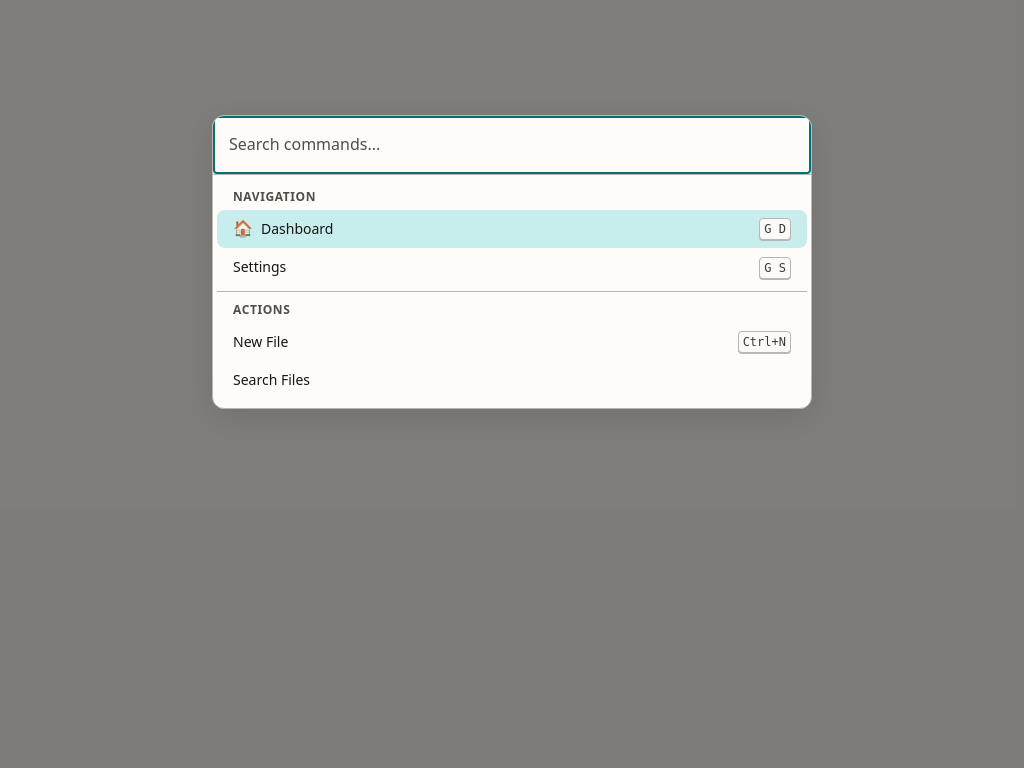
CommandPalette › shows empty state when no results
Step 1. Type "zzz123" into the field labelled "Search commands" → {"x": 512, "y": 145}, box left=213, top=116, right=811, bottom=174
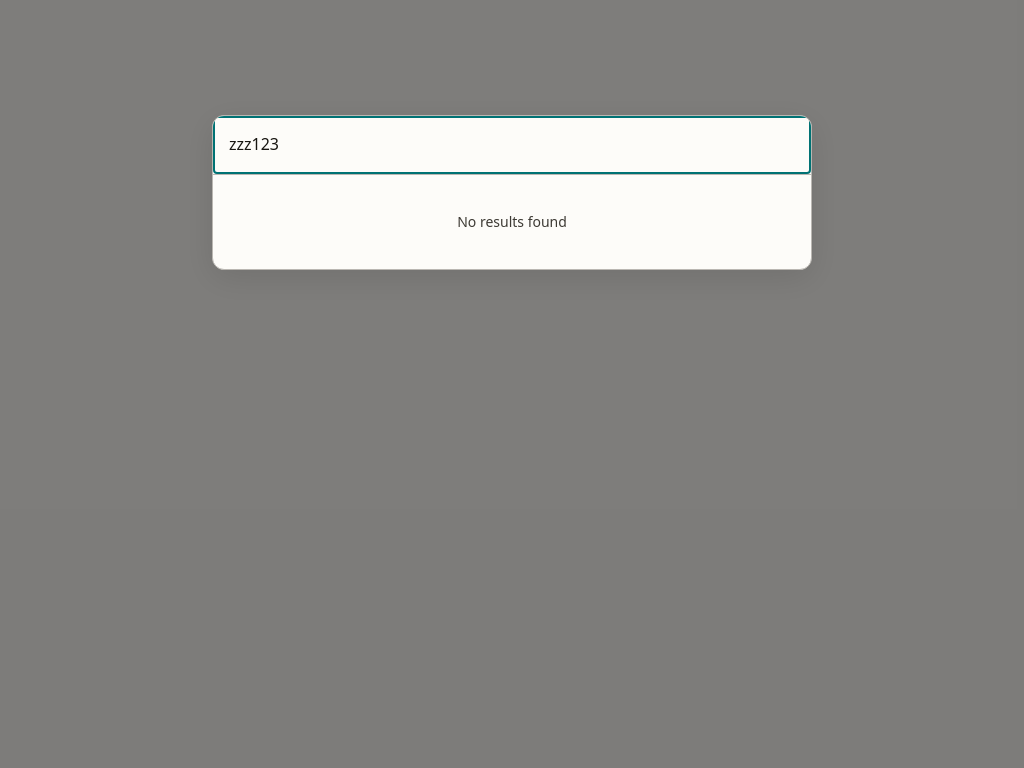
Now the text "No results found" is shown, box left=457, top=212, right=567, bottom=231
